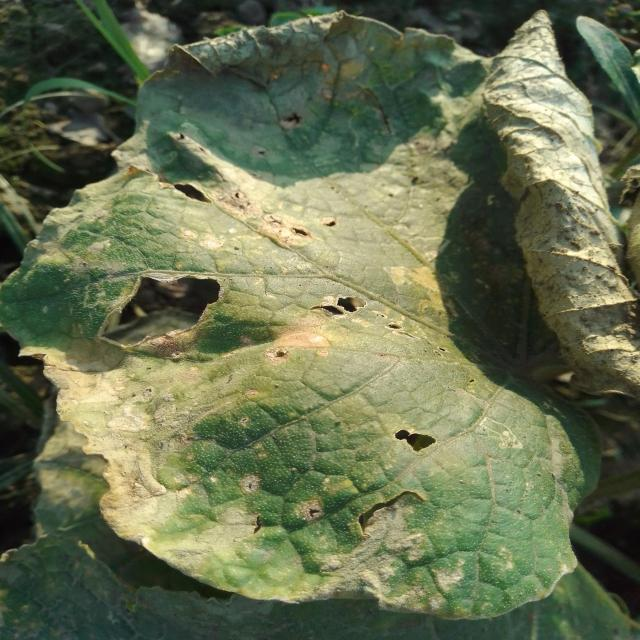cucumber_anthracnose: (101, 42, 517, 580)
